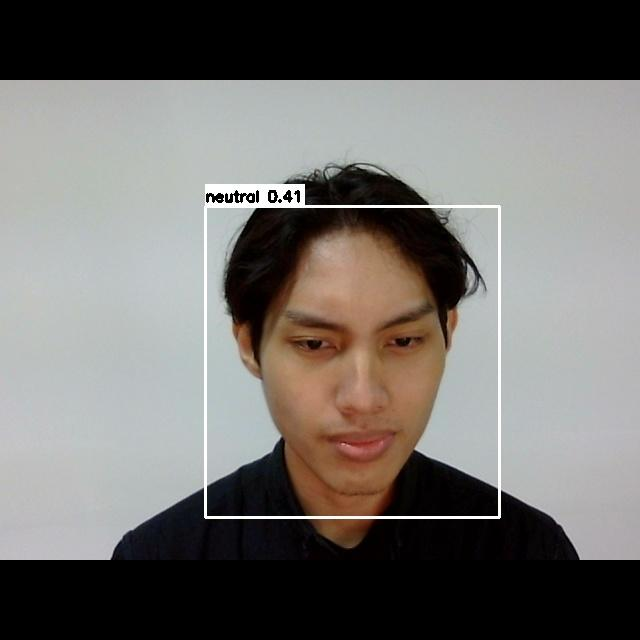Angry: (263, 280, 460, 486)
